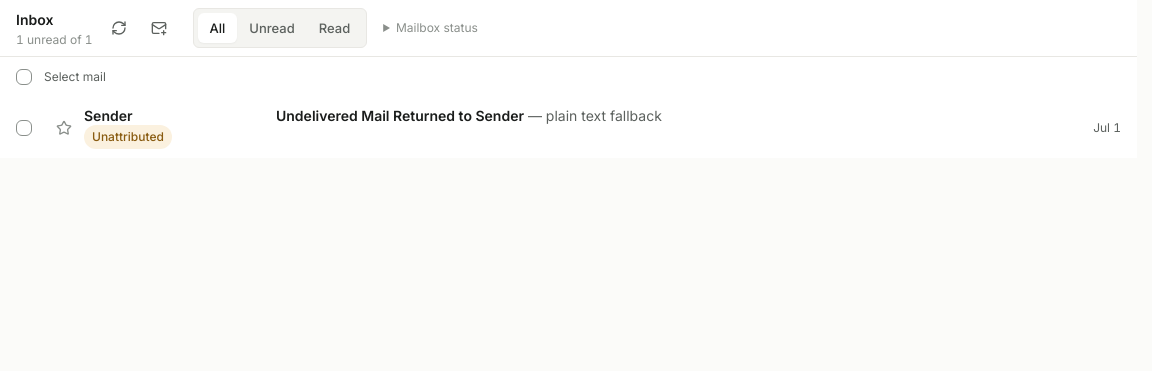
Inbox single-screen navigation › labels an unattributed delivery failure in the list and reader
Expected: the text "Unattributed" is shown, left=84, top=125, right=172, bottom=149
Click the button that starts with "Sender" at (106, 114), box left=84, top=97, right=1017, bottom=158
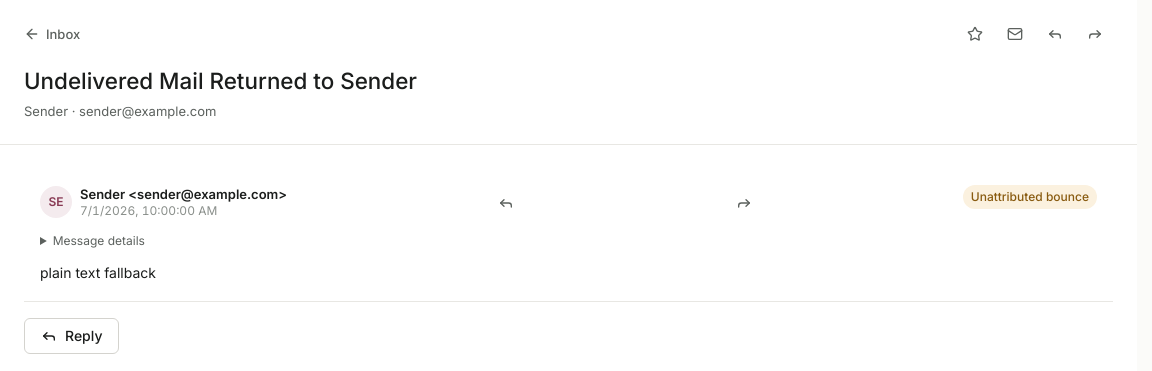
Expected: the text "Unattributed bounce" is shown, left=963, top=185, right=1097, bottom=209
